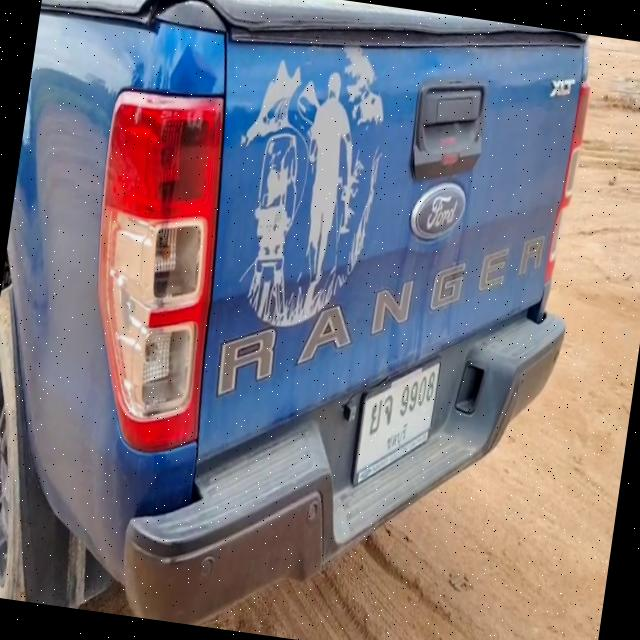Digit: (398, 366, 437, 422)
Licenseplate: (349, 351, 444, 489)
Provincename: (386, 421, 409, 452)
Thaichar: (368, 392, 396, 437)
